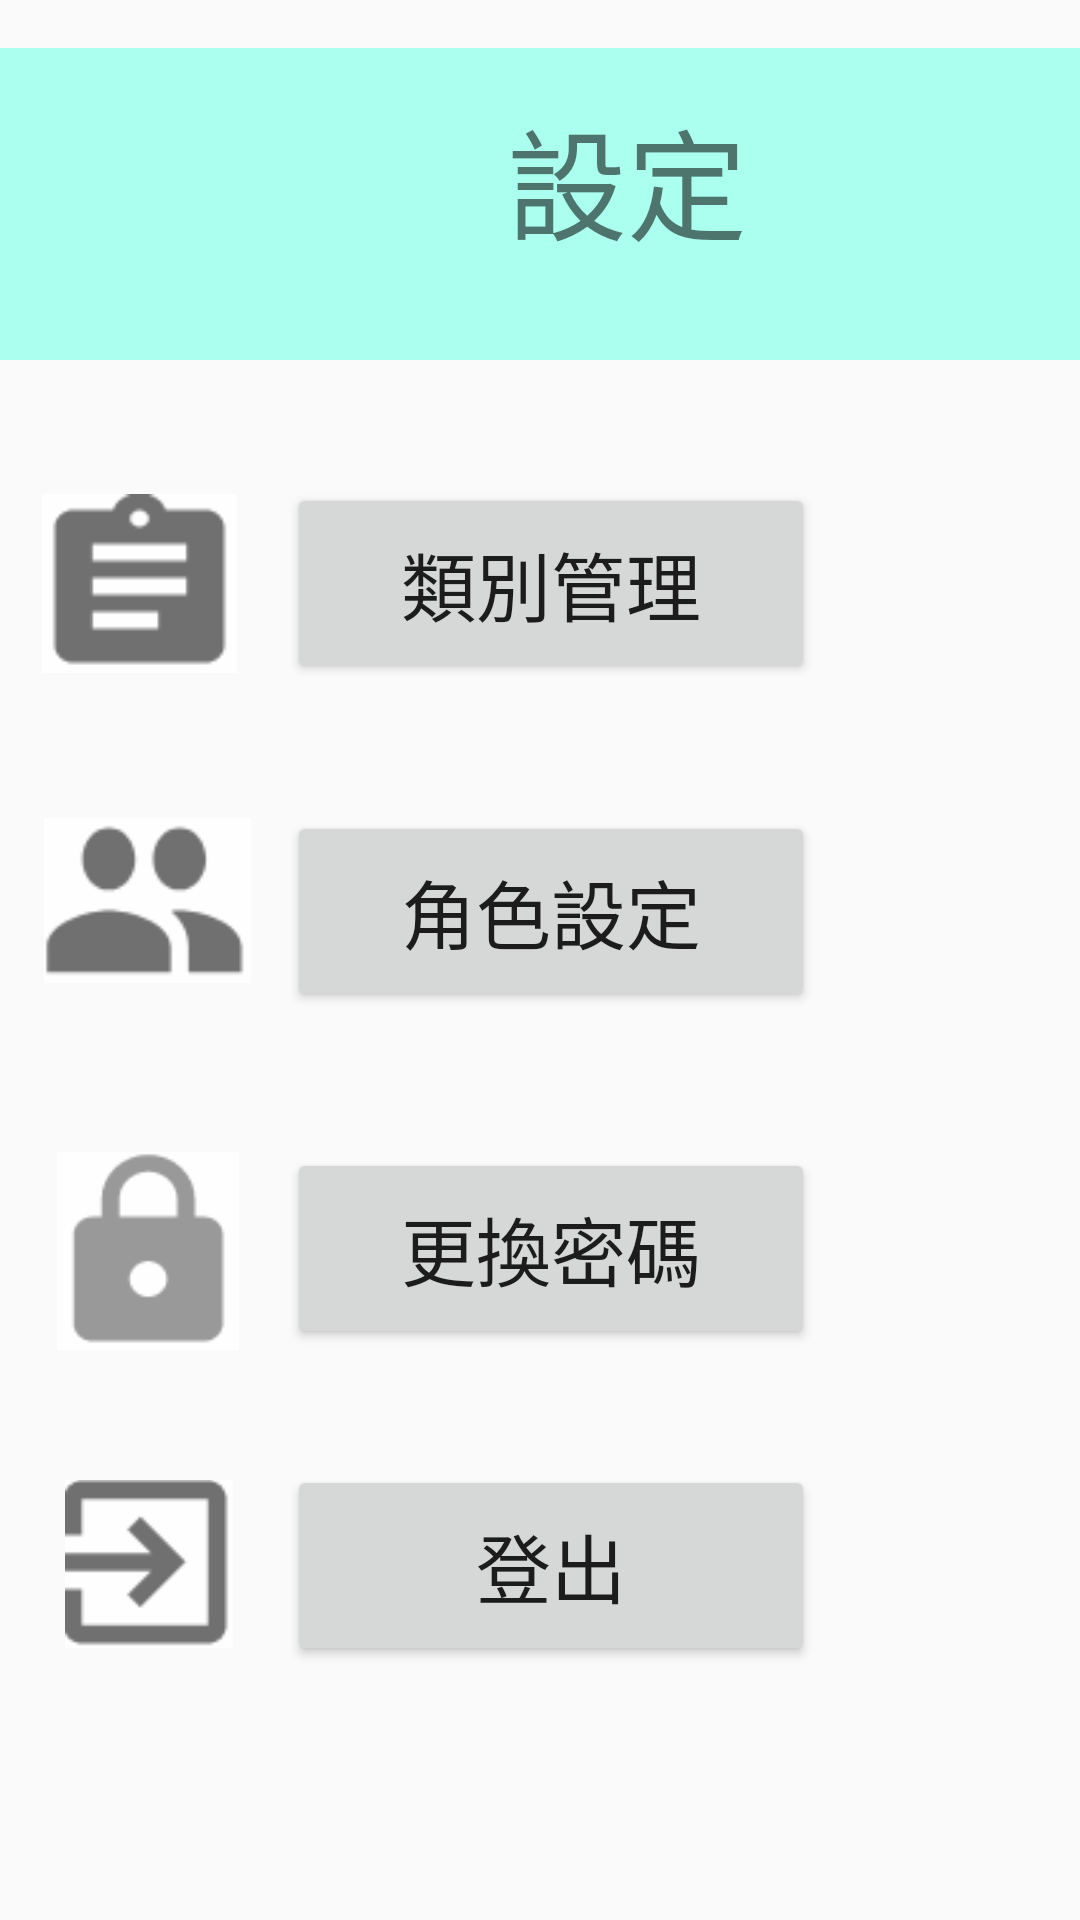

Screen size 1080*1920. Icon name, then its box in pixels as [x1,y1,x2,y2]:
change password: [73,1154,224,1342]
log out: [65,1480,228,1645]
role: [46,826,243,974]
